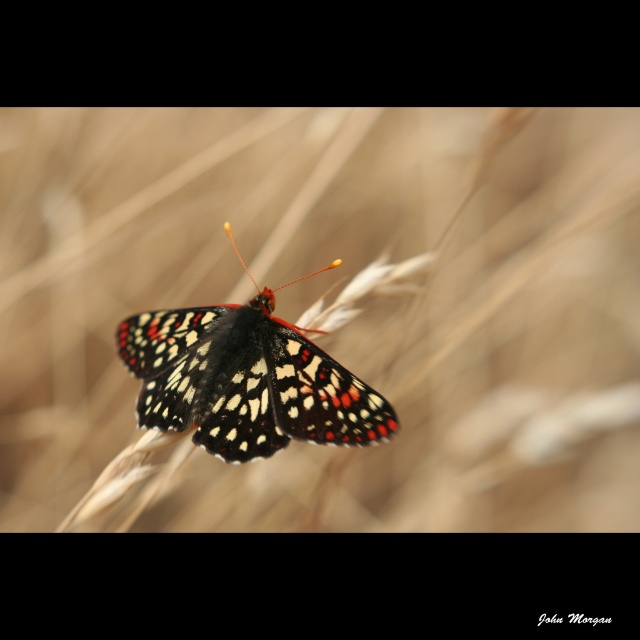Butterfly: (110, 222, 409, 465)
